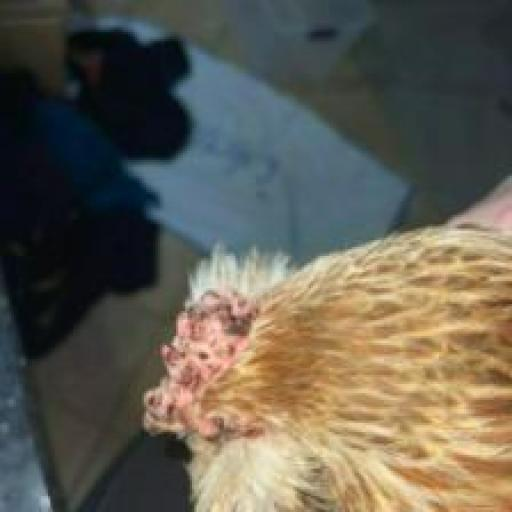disease: (133, 275, 363, 448)
